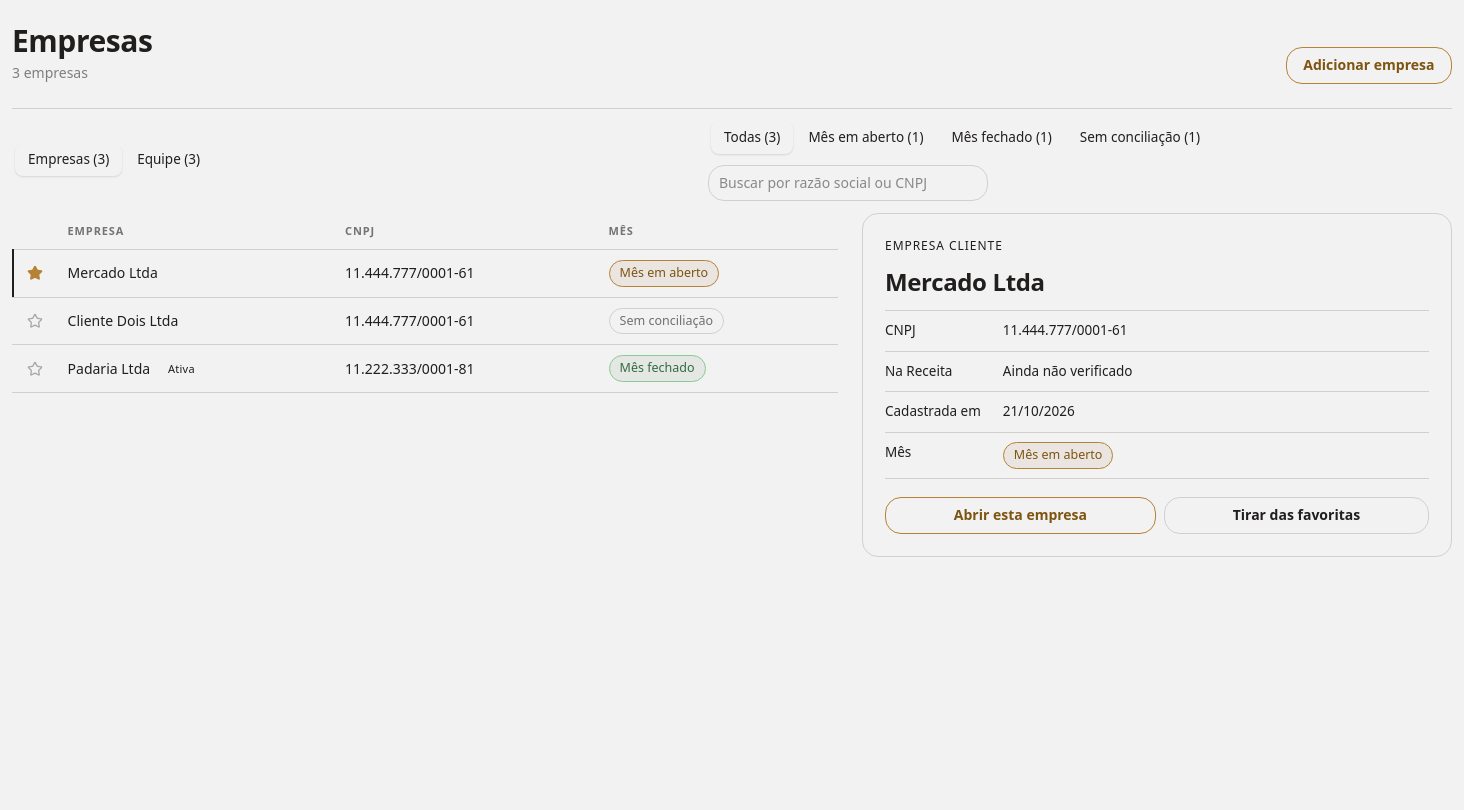
Scenario: a situação do mês e as favoritas › uma recusa do backend desfaz a estrela e mostra o motivo
Click the button "Tirar das favoritas": point(1296, 515) [1164,497,1429,534]
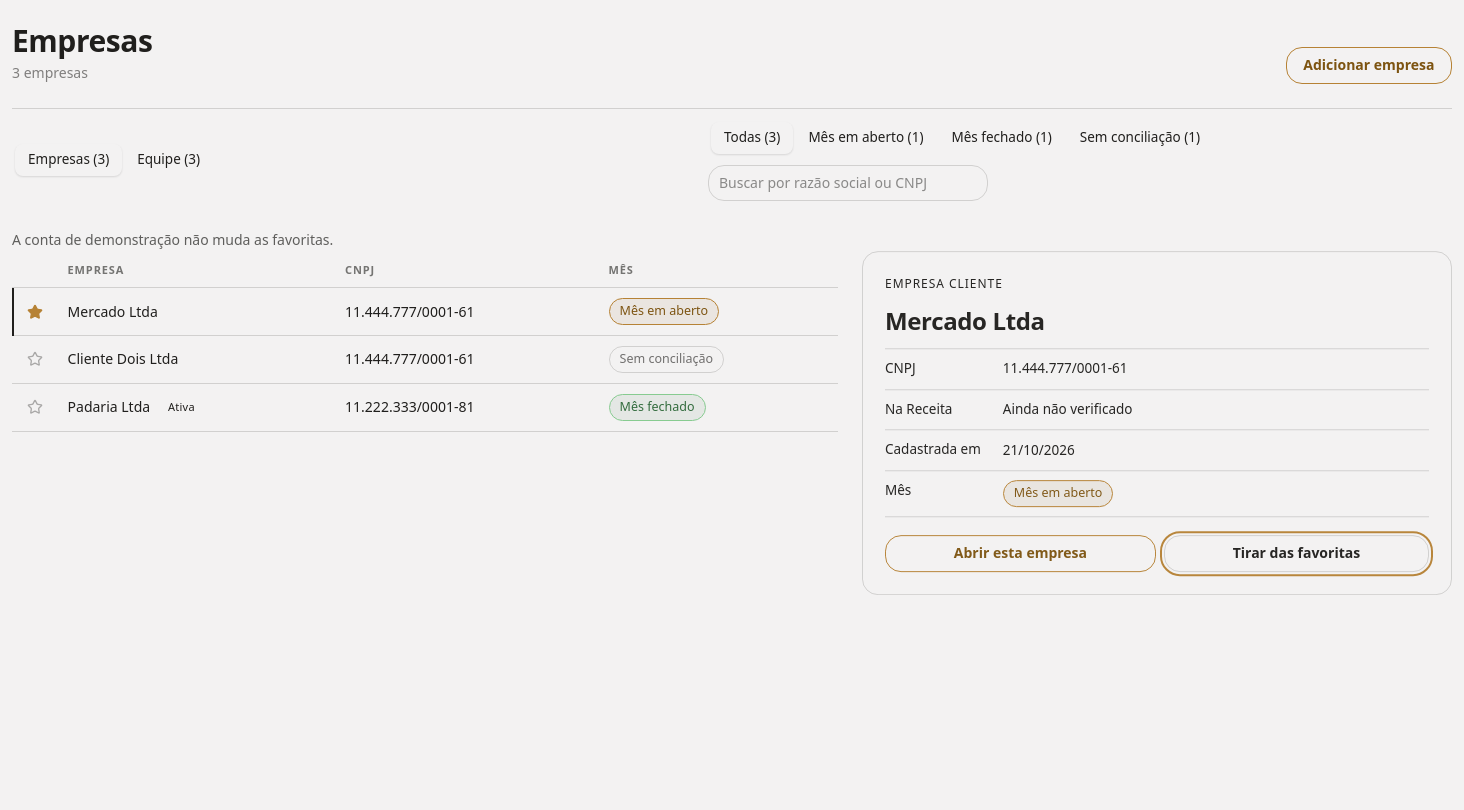
Expected: the message reads "A conta de demonstração não muda as favoritas.", [12,230,333,249]
